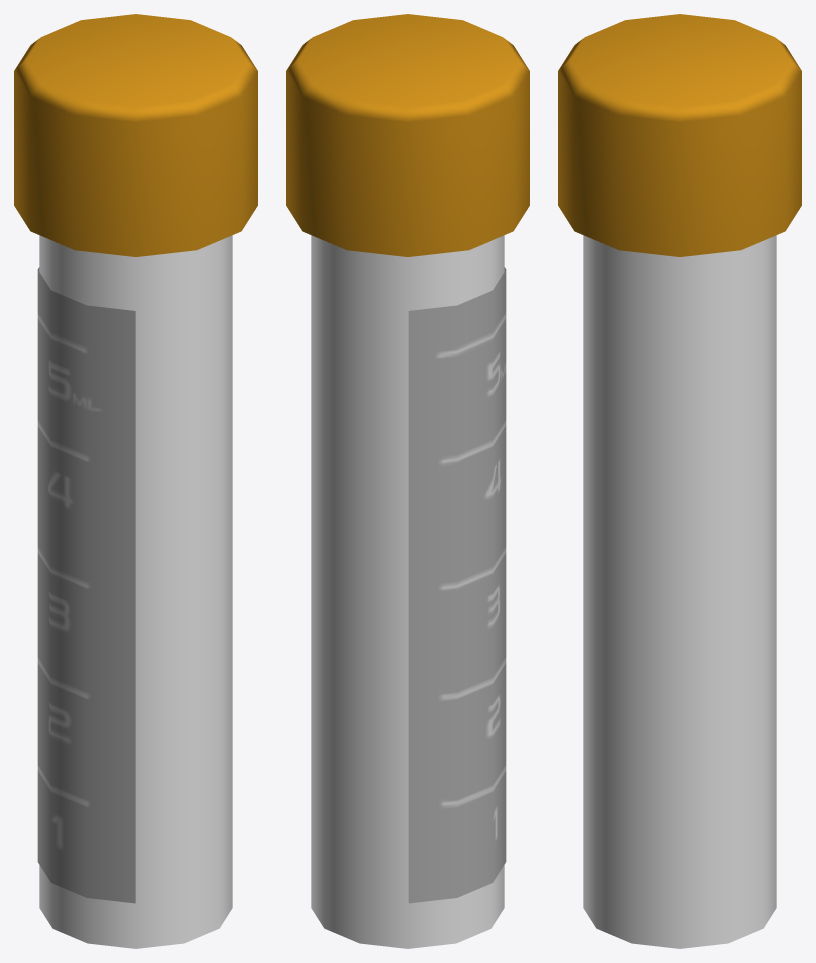
Rendered from TestTube.fbx.
The picture shows the model from 3 angles, left to right: view 1: azimuth 30°, elevation 25°; view 2: azimuth 150°, elevation 25°; view 3: azimuth 270°, elevation 25°; orthographic projection.
Visible parts, largest first — view 1: Cryogenic_vial; view 2: Cryogenic_vial; view 3: Cryogenic_vial.
Boxes of the visible parts, <box> form: Cryogenic_vial: <box>14,14,257,948</box>; Cryogenic_vial: <box>286,14,529,948</box>; Cryogenic_vial: <box>558,14,801,948</box>.
Size of the model in its own units: 0.0151 by 0.058 by 0.0151.
Materials: 2 (1 with a texture image).
